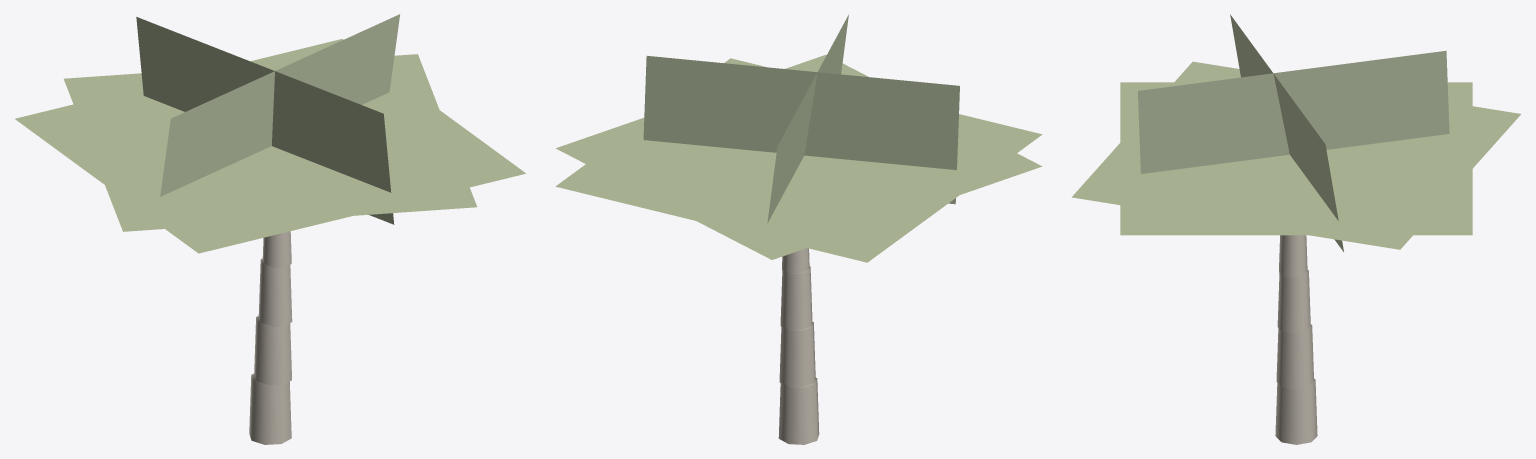
The model's file is palm-v1.lod1.glb.
The picture shows the model from 3 angles, left to right: view 1: azimuth 30°, elevation 25°; view 2: azimuth 150°, elevation 25°; view 3: azimuth 270°, elevation 25°; orthographic projection. The views are drawn at different scales.
Parts seen in each view (by area): view 1: palm-v1.lod1; view 2: palm-v1.lod1; view 3: palm-v1.lod1.
Boxes of the visible parts, x1,y1,x2,y2 form: palm-v1.lod1: (14, 14, 525, 444); palm-v1.lod1: (555, 14, 1042, 444); palm-v1.lod1: (1071, 14, 1520, 444).
Size of the model in its own units: 9.1 by 8.1 by 9.2.
